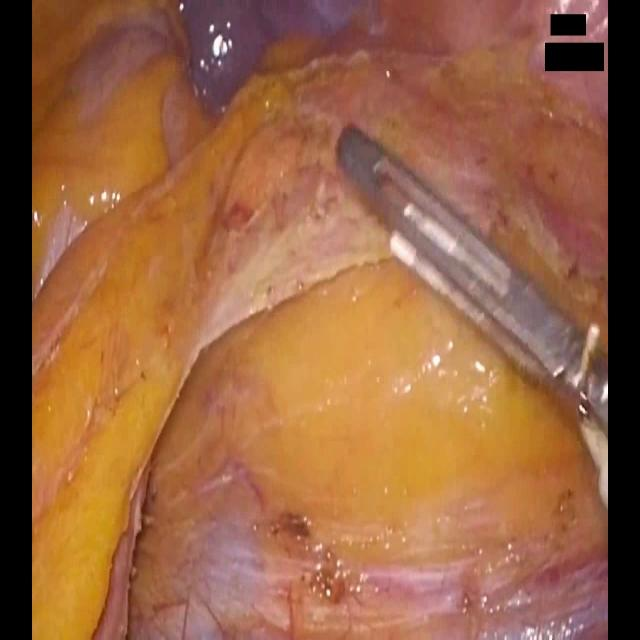surgical-area: (32, 0, 608, 639)
surgical-tool: (334, 125, 608, 440)
